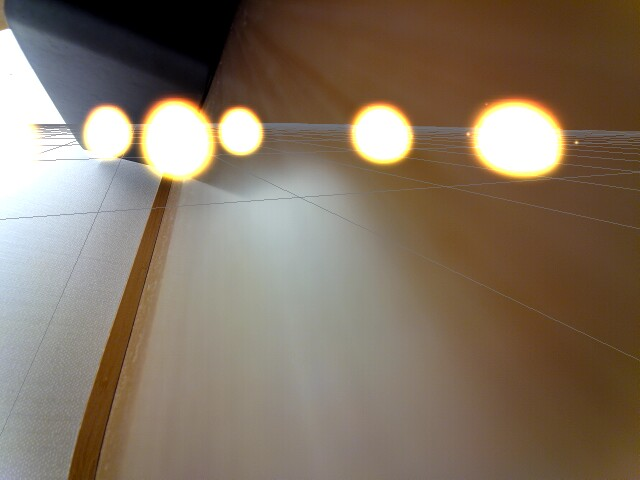firebig: (138, 97, 211, 186)
